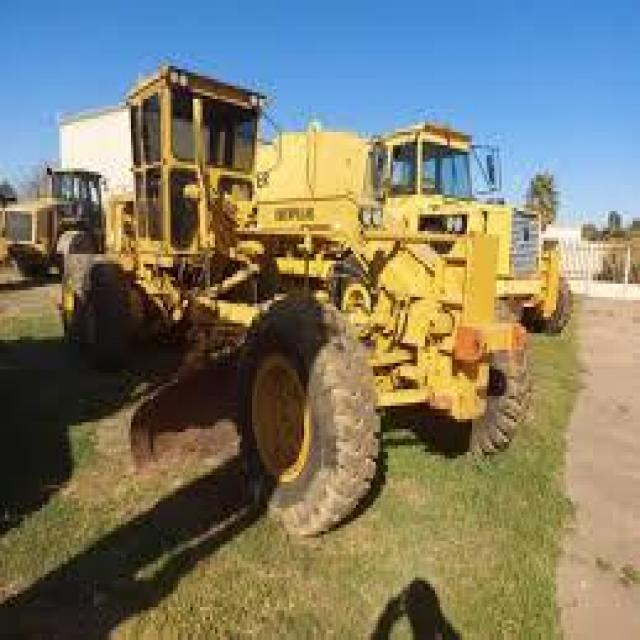Grader: (37, 59, 544, 541)
